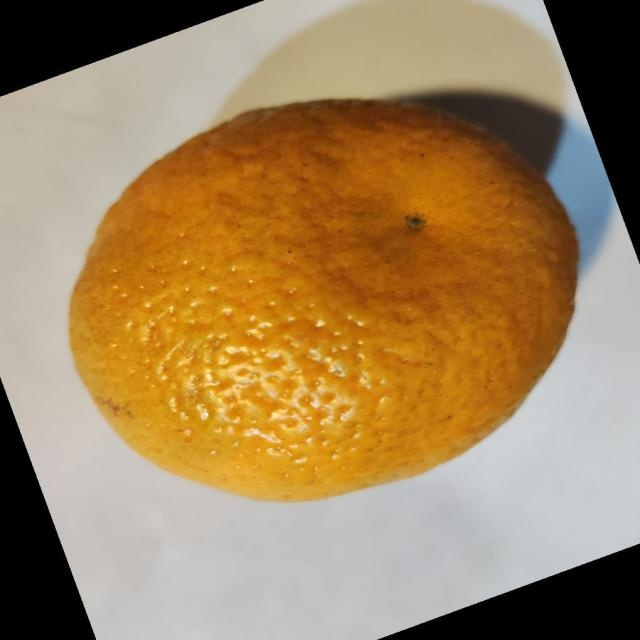agrume: (67, 96, 580, 503)
